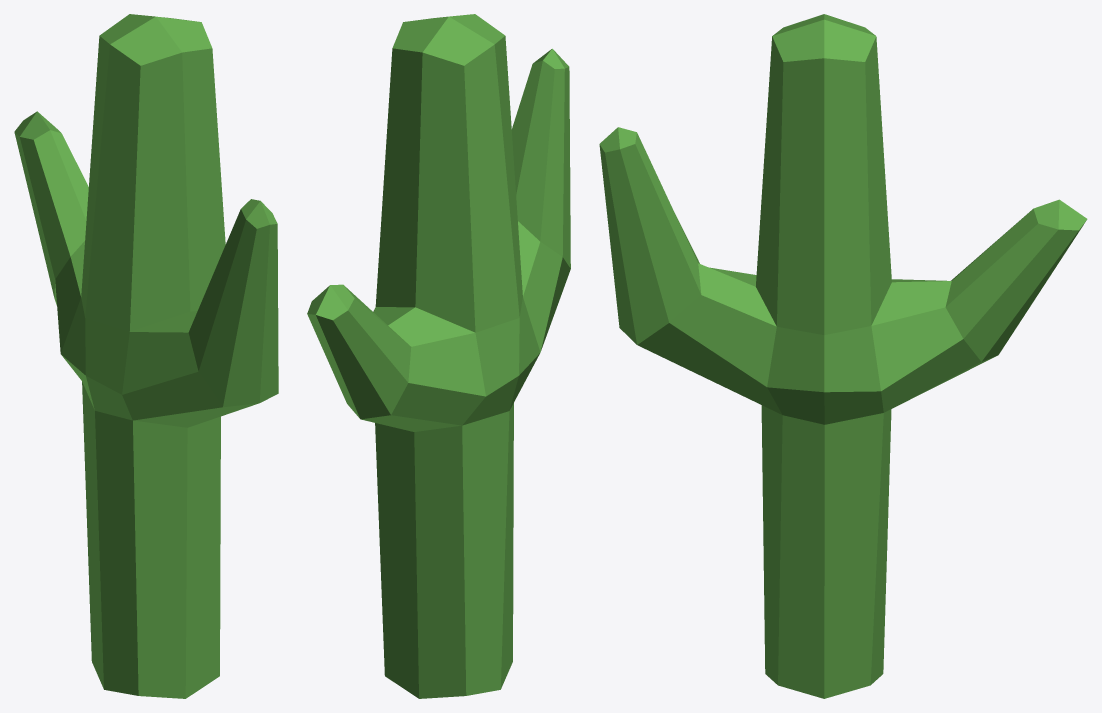
Rendered from cactus.01.fbx.
3 renders of one model, left to right at view 1: azimuth 30°, elevation 25°; view 2: azimuth 150°, elevation 25°; view 3: azimuth 270°, elevation 25°, orthographic.
Visible parts, largest first — view 1: cactus.01; view 2: cactus.01; view 3: cactus.01.
Part boxes in pixels (x1=…): cactus.01: x1=14, y1=14, x2=278, y2=698; cactus.01: x1=307, y1=14, x2=570, y2=698; cactus.01: x1=599, y1=14, x2=1087, y2=698.
Size of the model in its own units: 45.74 by 209 by 138.
